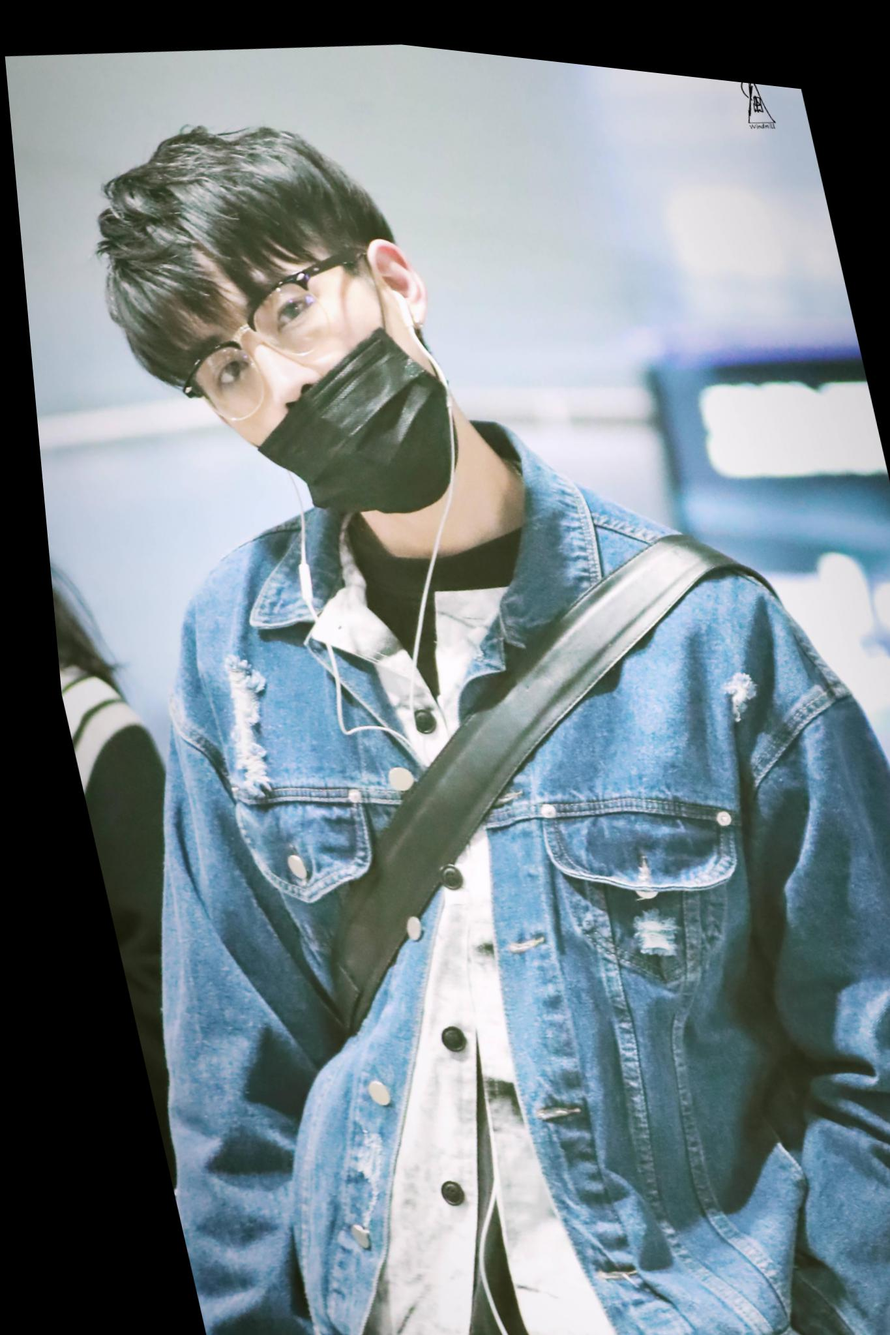WRONG: (163, 239, 463, 531)
